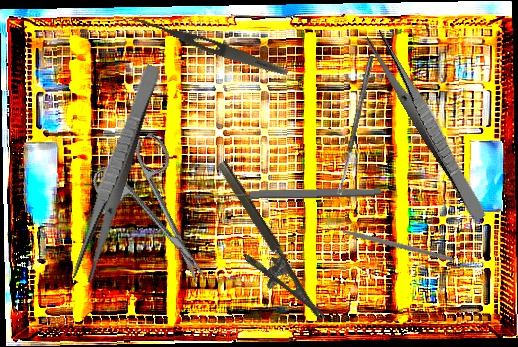Chopper: (323, 183, 454, 294)
Dressing Forceps: (363, 27, 493, 224), (69, 61, 163, 284), (129, 12, 290, 80)
Iris Scissors: (84, 130, 235, 304)
Needle Holder: (195, 159, 326, 337)
Surgical Spoon: (336, 55, 374, 195), (194, 186, 382, 201)
